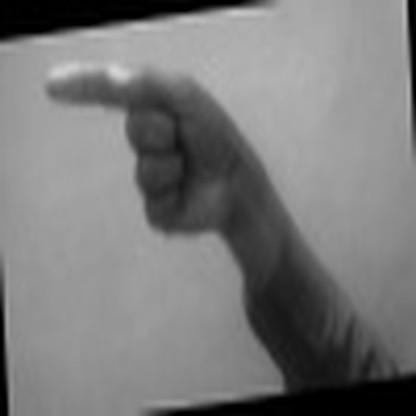g: (36, 51, 258, 238)
